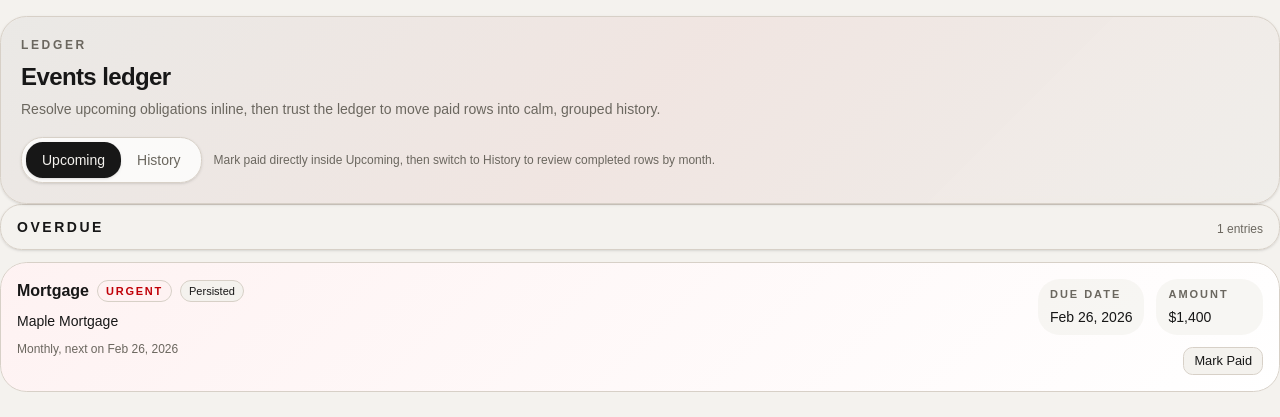
Scenario: dashboard/events completion flow › keeps completed history rows read-only without an inline undo action
Expected: the heading "Mortgage" is shown, [17,279,89,303]
Click the tab "History": (159, 160) [121,142,197,178]
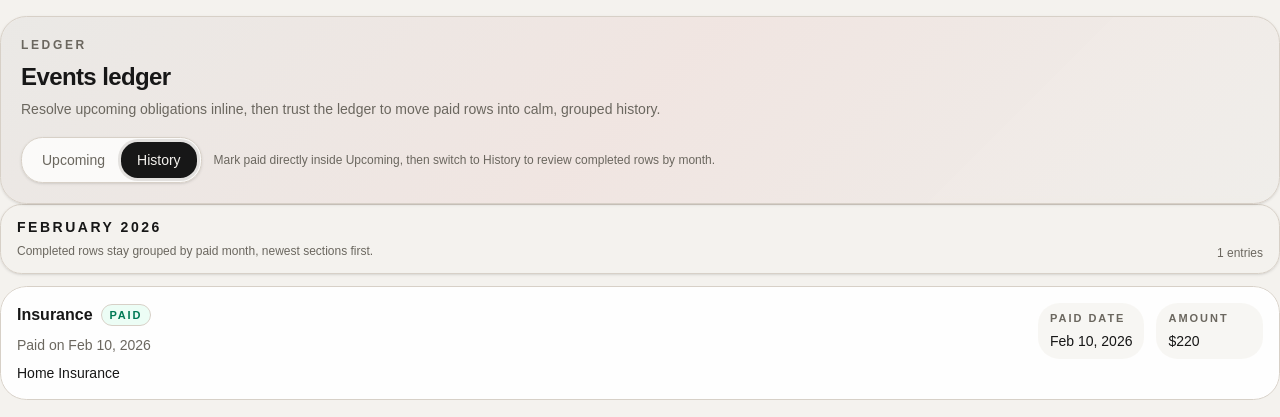
Result: the heading "Insurance" is shown at [17,303,93,327]
Result: the text "Paid on Feb 10, 2026" is shown at [17,335,151,355]
